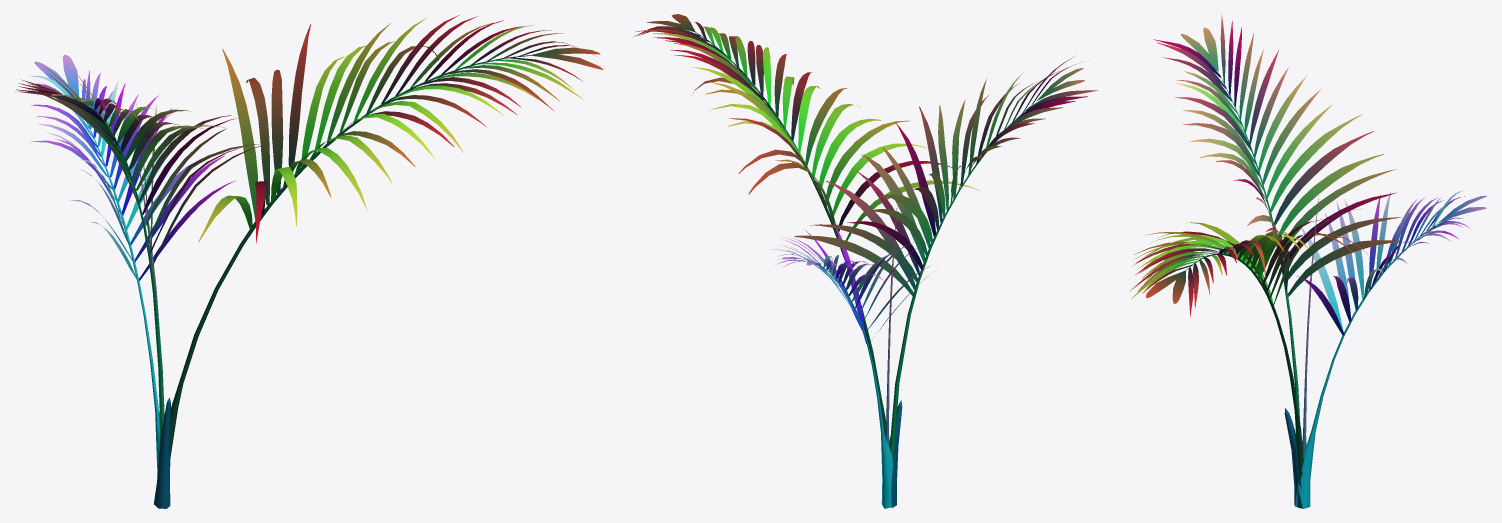
File: ukgkcilia_VarA_LOD2.fbx
The picture shows the model from 3 angles, left to right: view 1: azimuth 30°, elevation 25°; view 2: azimuth 150°, elevation 25°; view 3: azimuth 270°, elevation 25°; orthographic projection. The views are drawn at different scales.
Visible parts, largest first — view 1: _thzj_VarA_LOD3; view 2: _thzj_VarA_LOD3; view 3: _thzj_VarA_LOD3.
Boxes of the visible parts, x1,y1,x2,y2 form: _thzj_VarA_LOD3: [15, 15, 603, 508]; _thzj_VarA_LOD3: [634, 14, 1097, 508]; _thzj_VarA_LOD3: [1129, 14, 1486, 508].
Bounding box in the file's own units: 174 × 147 × 116.
